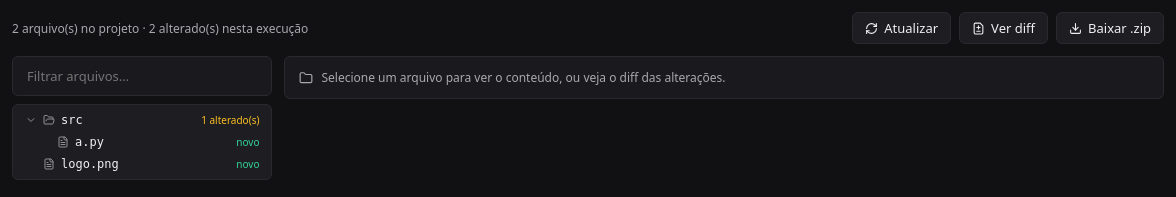
Scenario: FilesTab › lists files with status, opens text, marks binary and offers zip
Click the button with aria-label "src/a.py" at (142, 142), box [17,131,268,153]
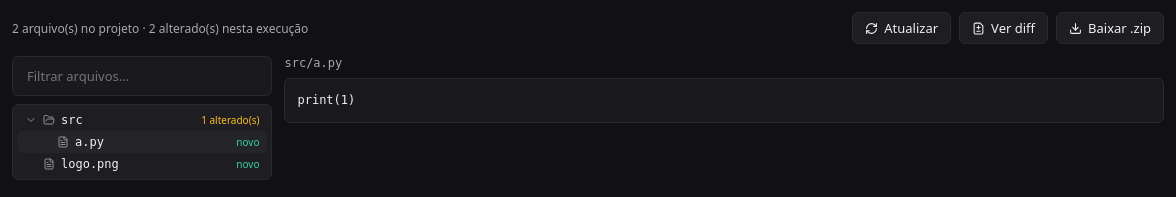
Check: the text "print(1)" is shown, box [284,78,1164,123]
Click the button "logo.png novo" at (142, 164), box [17,153,268,175]
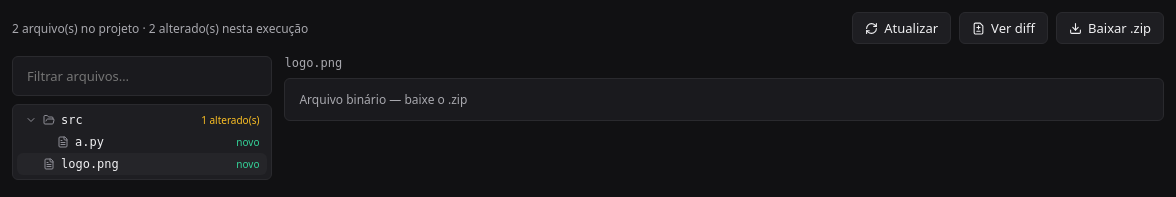
Check: the button "Baixar .zip" is shown, box [1056,12,1164,44]
Check: the text "Arquivo binário — baixe o .zip" is shown, box [284,78,1164,121]
